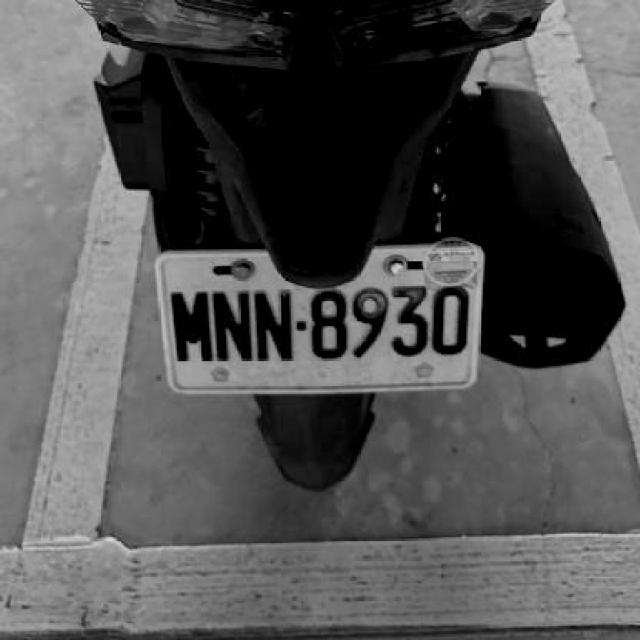-: (297, 320, 308, 331)
0: (432, 283, 471, 359)
3: (390, 285, 428, 357)
8: (312, 286, 351, 360)
9: (349, 286, 391, 360)
M: (166, 288, 211, 361)
N: (209, 287, 252, 363), (250, 287, 293, 359)
